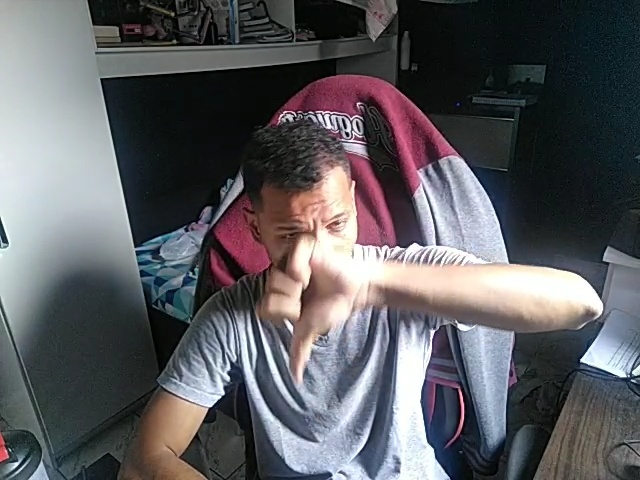não: (239, 232, 361, 389)
